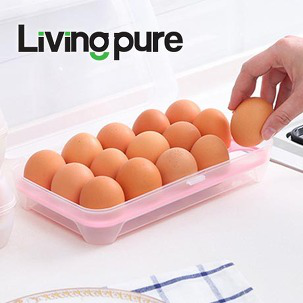egg: (24, 97, 230, 209), (228, 95, 275, 151)
